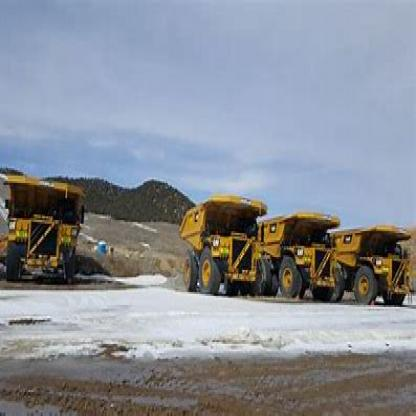dump_truck: (175, 178, 262, 302), (0, 161, 83, 283), (341, 202, 415, 322), (266, 185, 340, 301)
